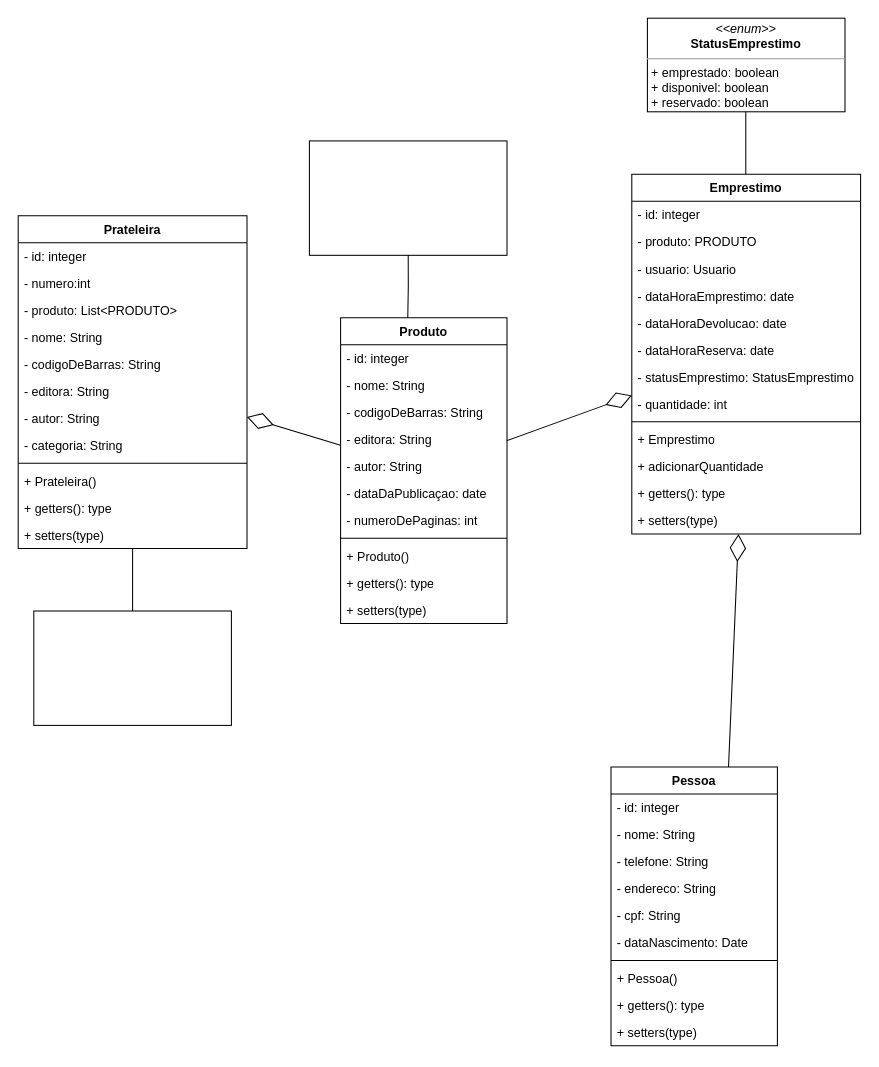
The diagram is 879 pixels wide and 1067 high, and some of its shapes have lost their labels. The box of each missing label's shape, as (x1, y1, x2, y2) in pixels:
<<enum>> CategoriaPrateleira + Livros + revistas + mangas + dicionarios: (33, 610, 231, 725)
<<enum>> TipoProduto + Livros + revistas + mangas + dicionarios: (308, 140, 507, 255)
